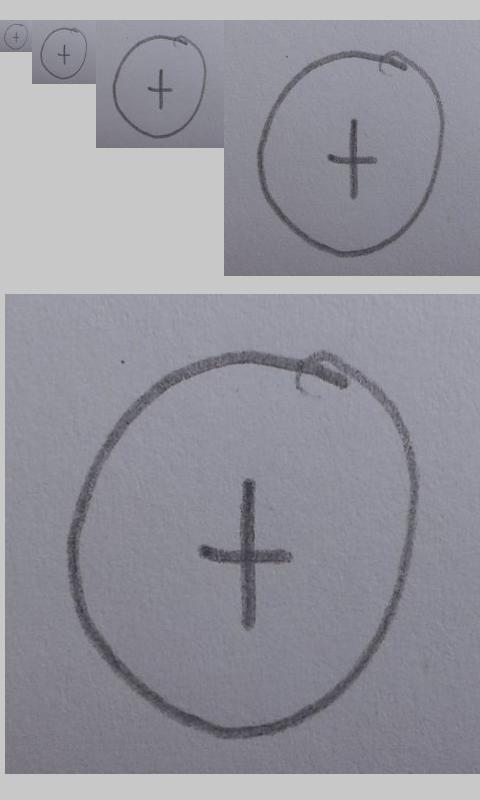button: (64, 347, 422, 742), (256, 48, 446, 259), (111, 34, 208, 139), (40, 27, 88, 80), (3, 23, 29, 50)
